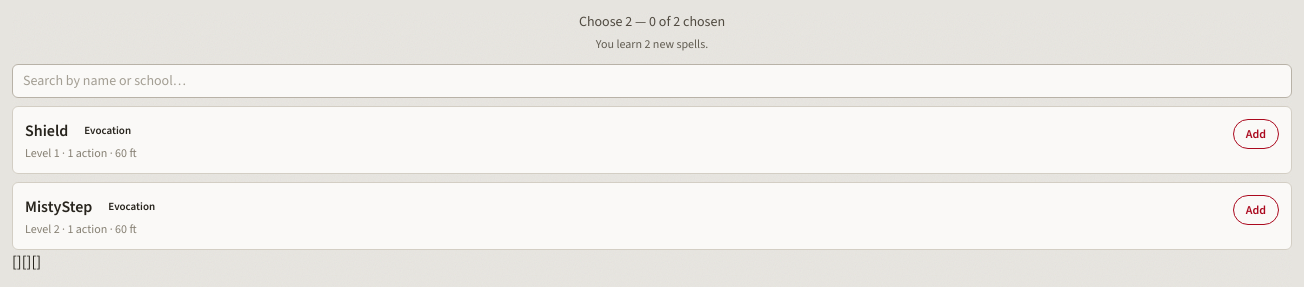
Test: NewSpellsStep — empty eligible list vs. search miss (#1826) › still shows the ordinary search-miss copy when a NON-empty eligible list is searched to zero
Expected: the text "Shield" is shown, x1=25 y1=119 x2=68 y2=143
Type "zzzznomatch" into the search field named "Search spells" at [652, 81], box x1=12 y1=64 x2=1292 y2=98
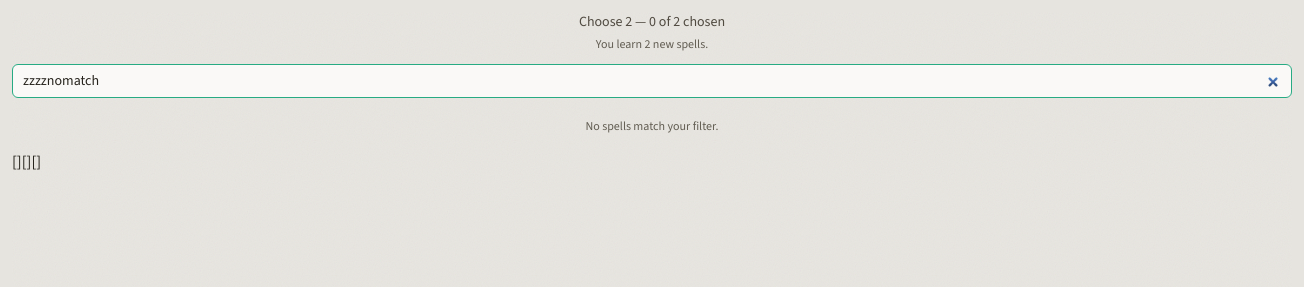
Result: the text "No spells match your filter." is shown at x1=586 y1=118 x2=718 y2=134
